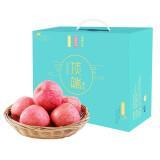apple: (33, 80, 63, 108), (51, 102, 83, 128), (20, 104, 51, 128), (11, 96, 34, 120)
